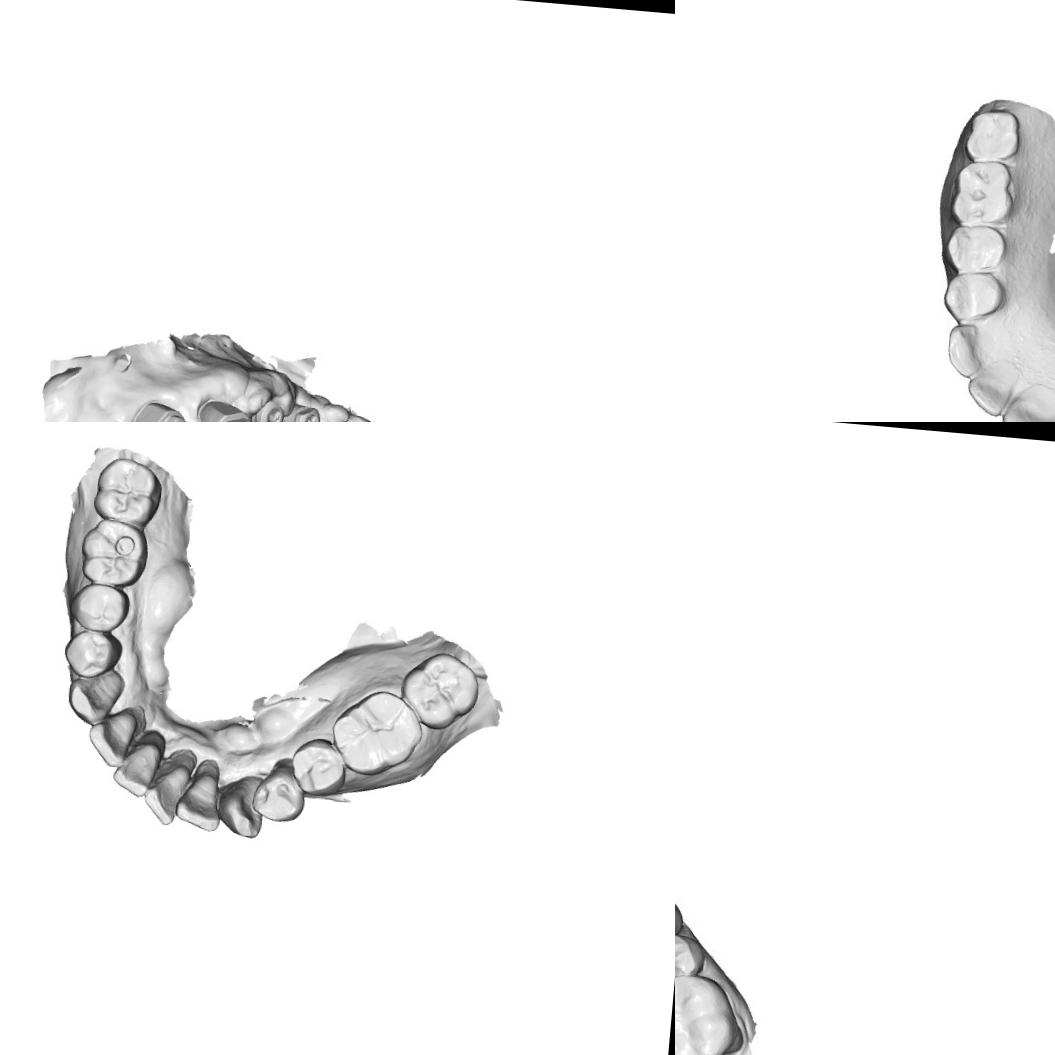canine: (62, 666, 126, 731), (213, 771, 268, 838), (945, 321, 995, 379)
implant_minus: (131, 398, 191, 422)
implant_plus: (197, 394, 256, 422), (252, 399, 288, 422), (287, 400, 321, 422)
incisor: (170, 762, 228, 836), (80, 706, 143, 770), (139, 756, 193, 828), (108, 734, 162, 801), (965, 366, 1018, 414), (1005, 391, 1054, 422)
molar: (326, 684, 428, 781), (394, 646, 482, 734), (675, 972, 748, 1055), (90, 452, 164, 530), (76, 516, 151, 590), (955, 164, 1012, 224), (964, 105, 1018, 162)
premolar: (286, 733, 348, 800), (65, 581, 133, 639), (59, 626, 124, 681), (249, 765, 308, 824), (942, 272, 1003, 316), (950, 227, 1004, 276), (675, 930, 705, 984)
